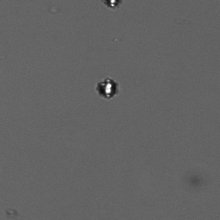Living Cell: (96, 77, 119, 99), (102, 1, 123, 9)
